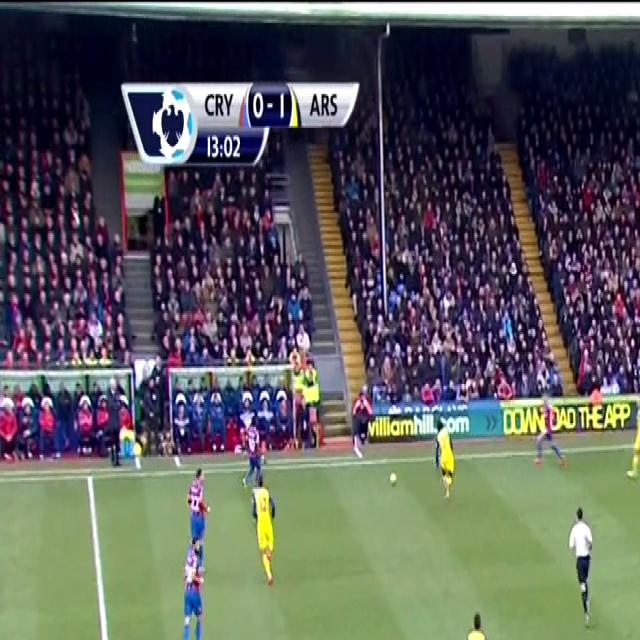ball: (386, 464, 400, 494)
referee: (558, 505, 608, 636)
soccer-player: (179, 469, 217, 563), (426, 418, 463, 508), (530, 395, 571, 474), (236, 427, 270, 497), (450, 608, 501, 640), (623, 404, 640, 482), (638, 470, 640, 580)
